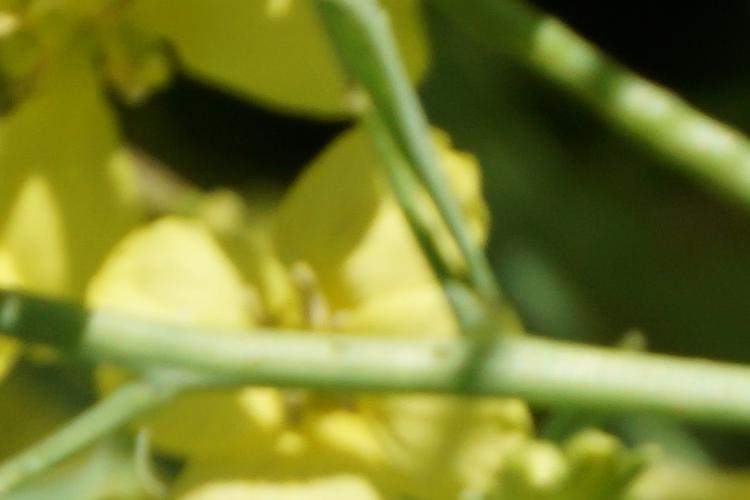yellow: (150, 141, 518, 468), (12, 10, 428, 165)
